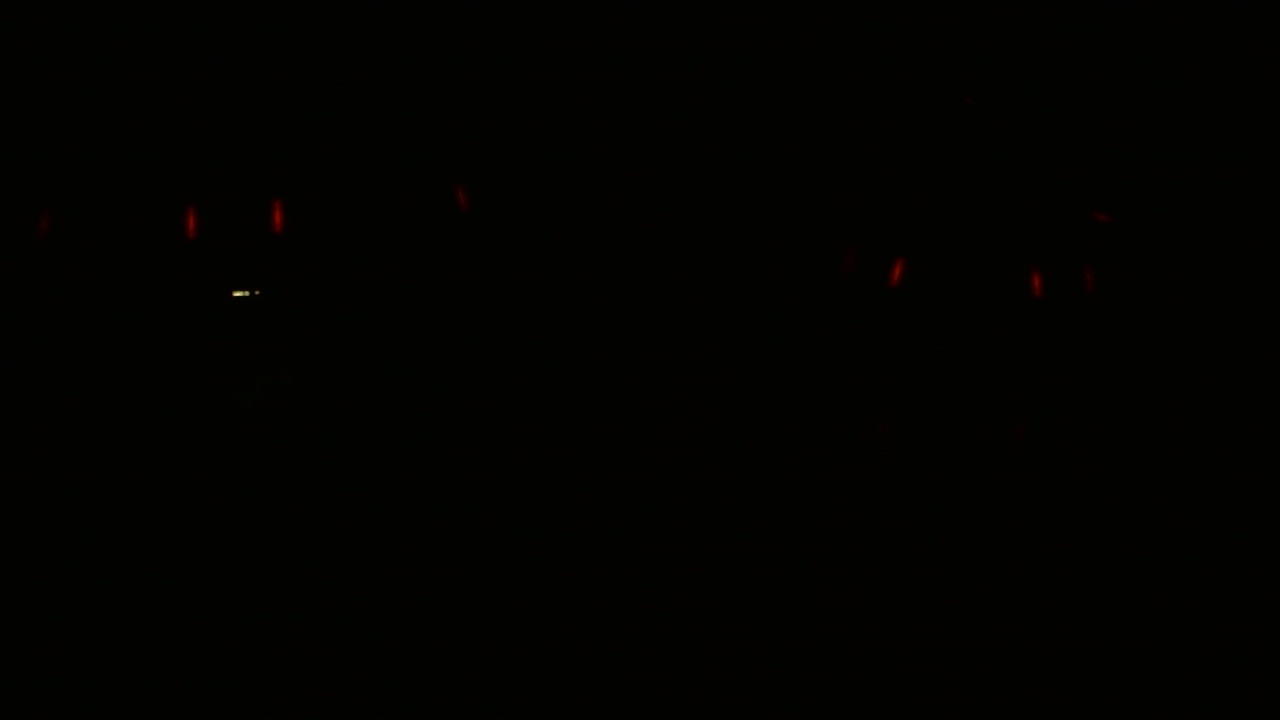pair1: (179, 201, 288, 238), (1028, 268, 1096, 296)
